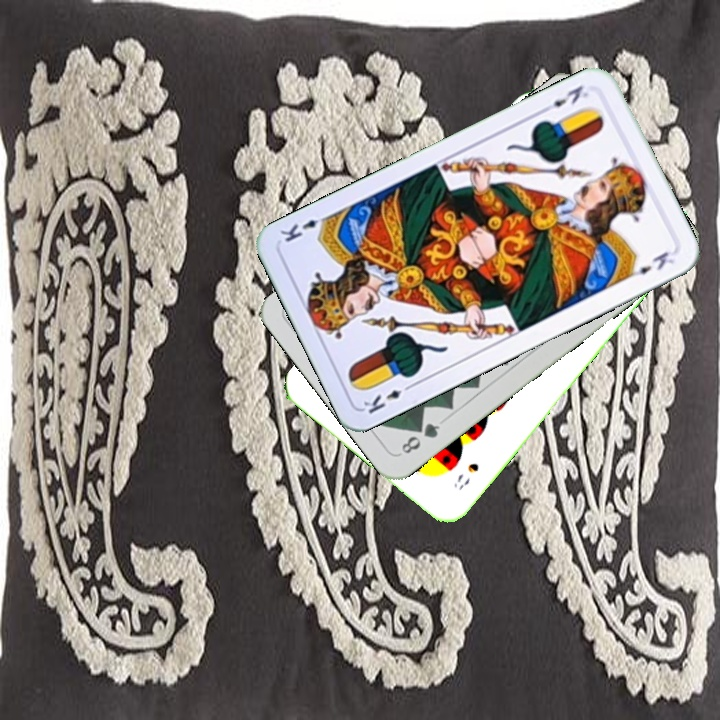EK: (359, 379, 416, 417), (538, 81, 592, 116)
G8: (397, 418, 443, 457)
S8: (449, 458, 482, 492)
